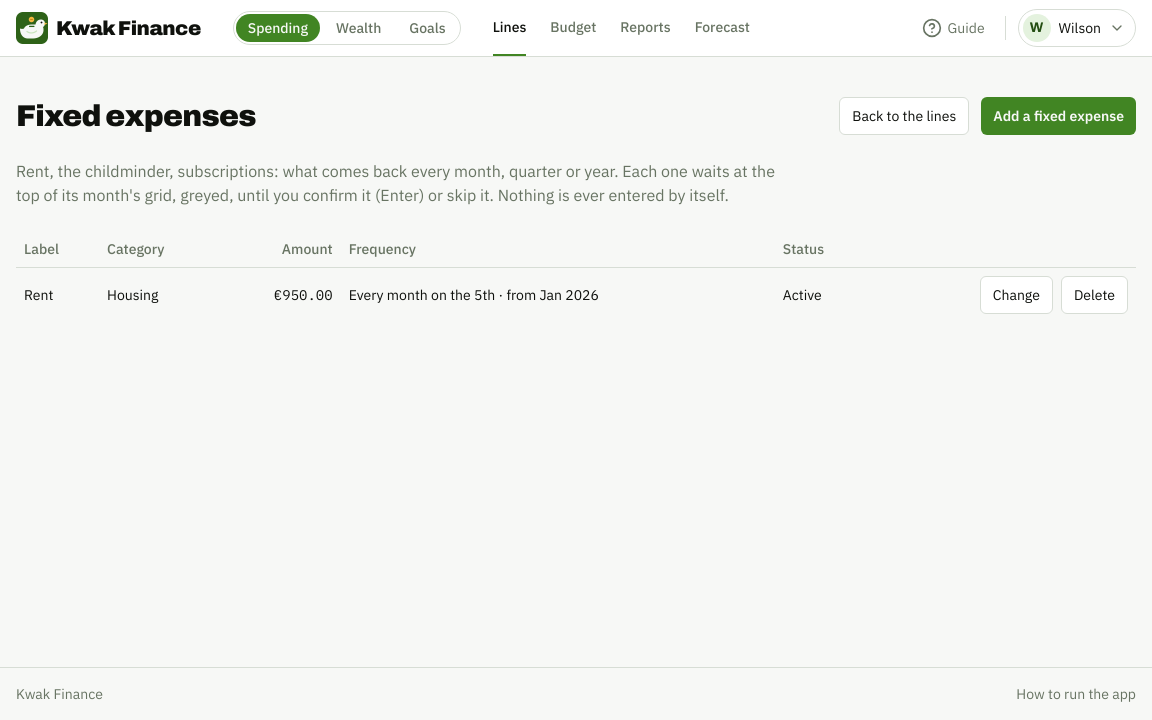
Test: a fixed expense is added as an outflow
Click the button "Add a fixed expense": point(1059, 116) [981,97,1136,135]
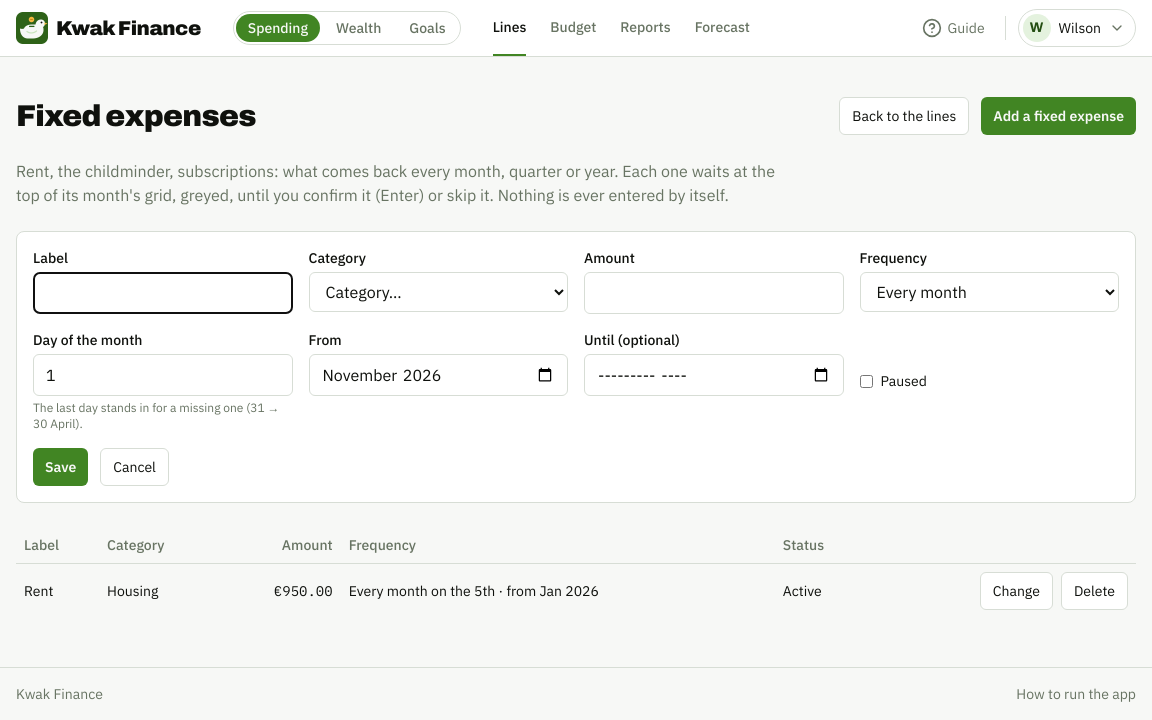
In the field labelled "Label": point(163, 293) [33,272,292,314], type "Streaming"
Select "Home" in the dropdown labelled "Category": point(438, 292) [308,272,568,312]
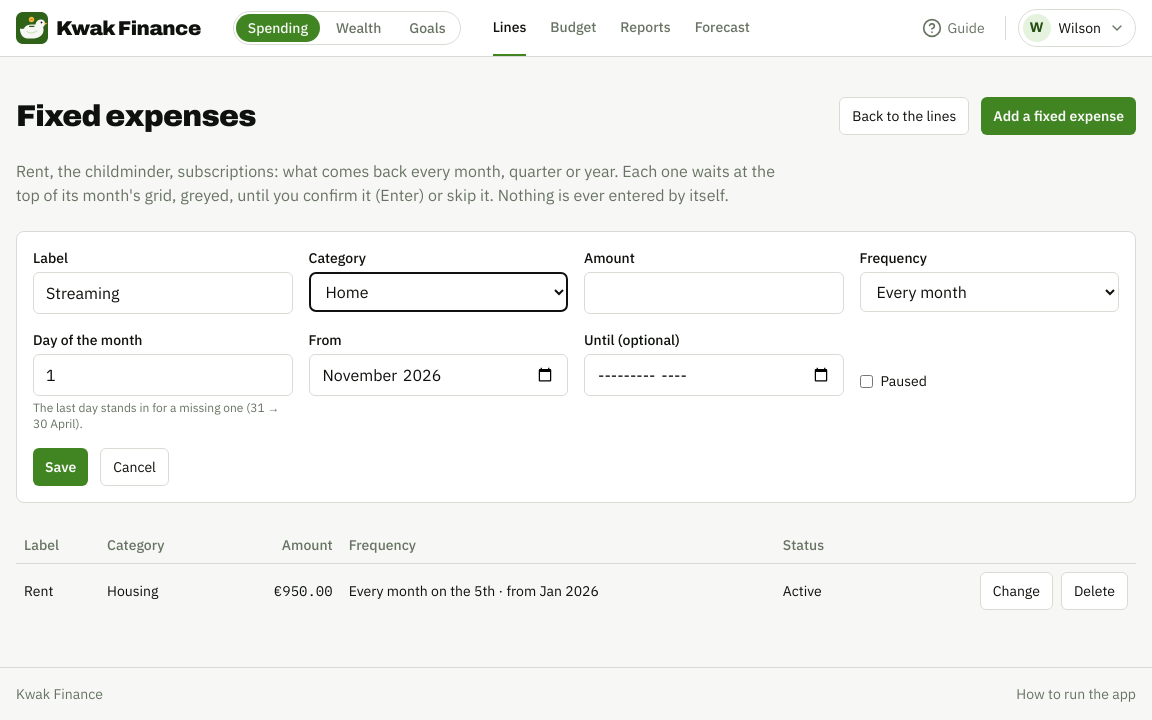
In the field labelled "Amount": point(714, 293) [584,272,844,314], type "13,49"
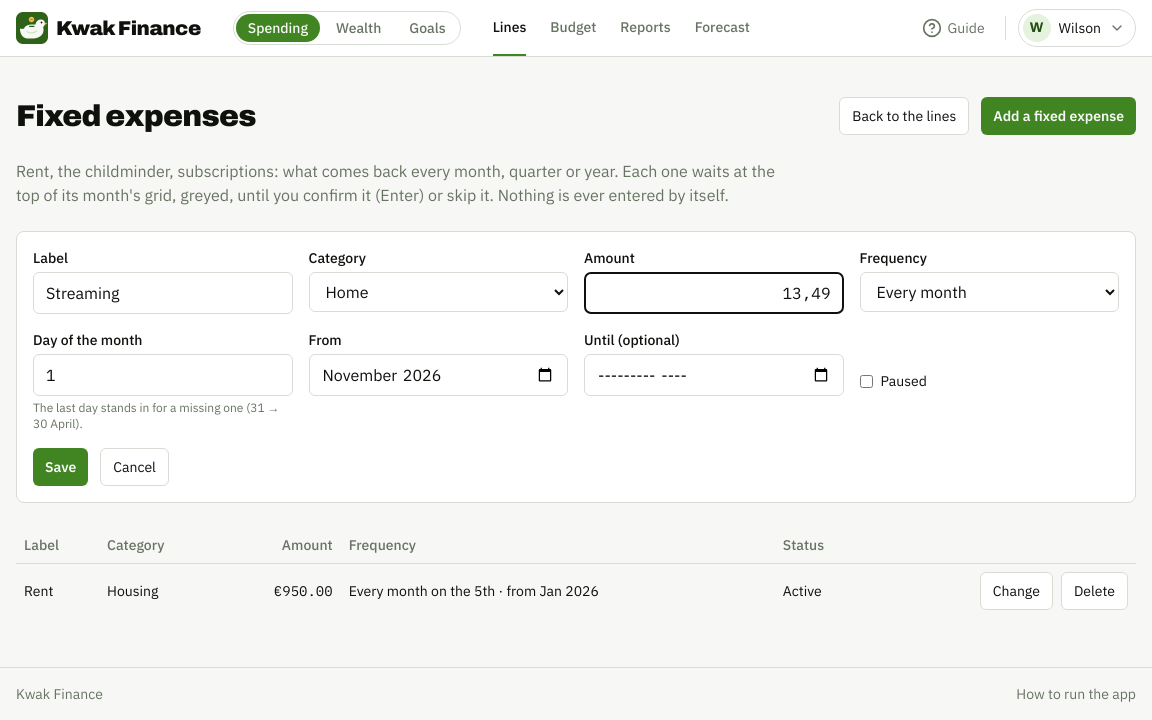
Select "Every year" in the dropdown labelled "Frequency": point(989, 292) [860,272,1119,312]
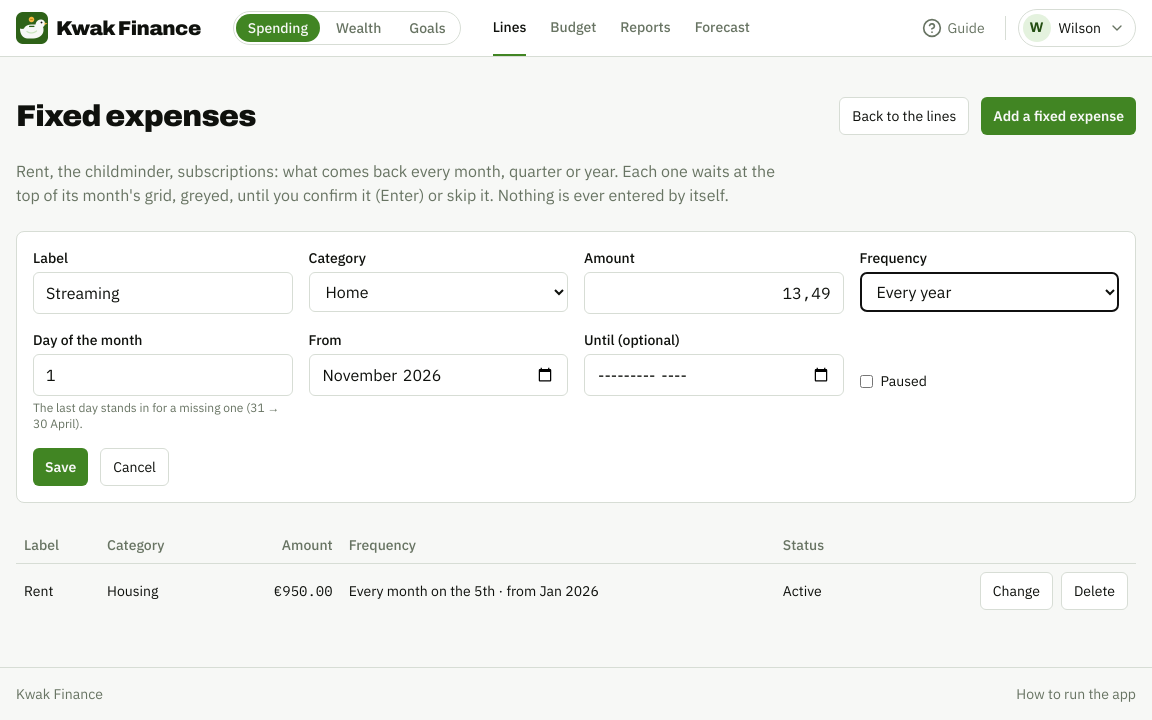
Replace the text in the number field labelled "Day of the month" with "31": point(163, 375) [33,354,292,396]
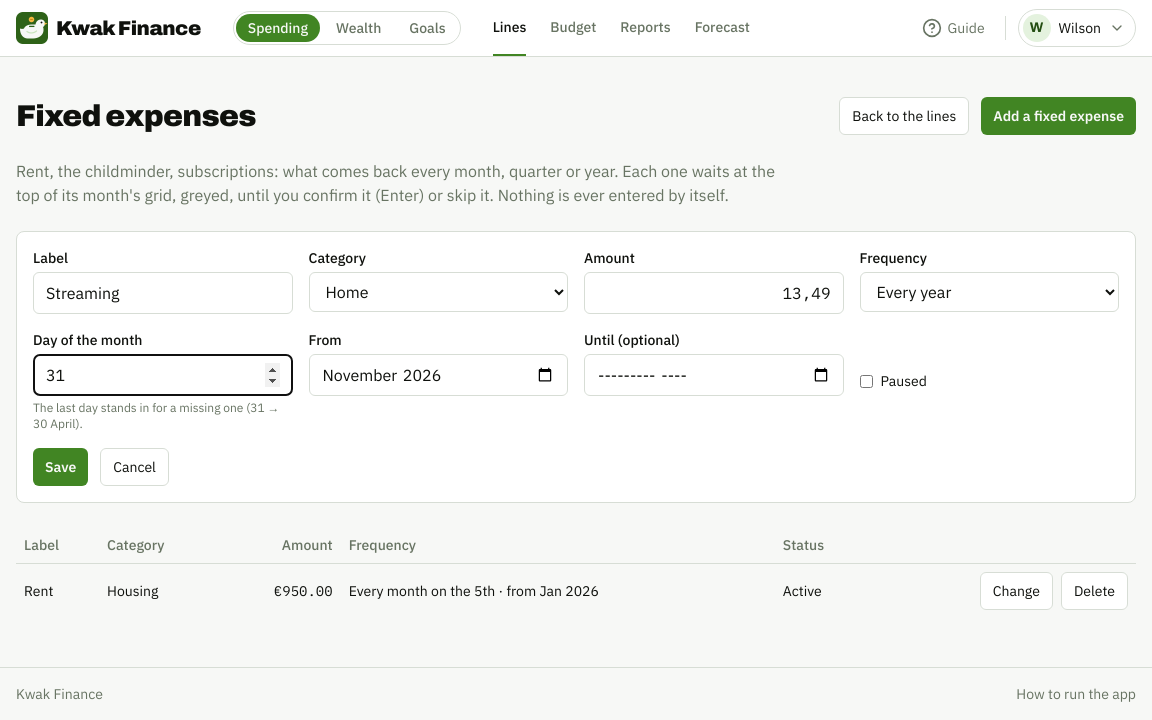
Click the button "Save": point(61, 467) [33,448,88,486]
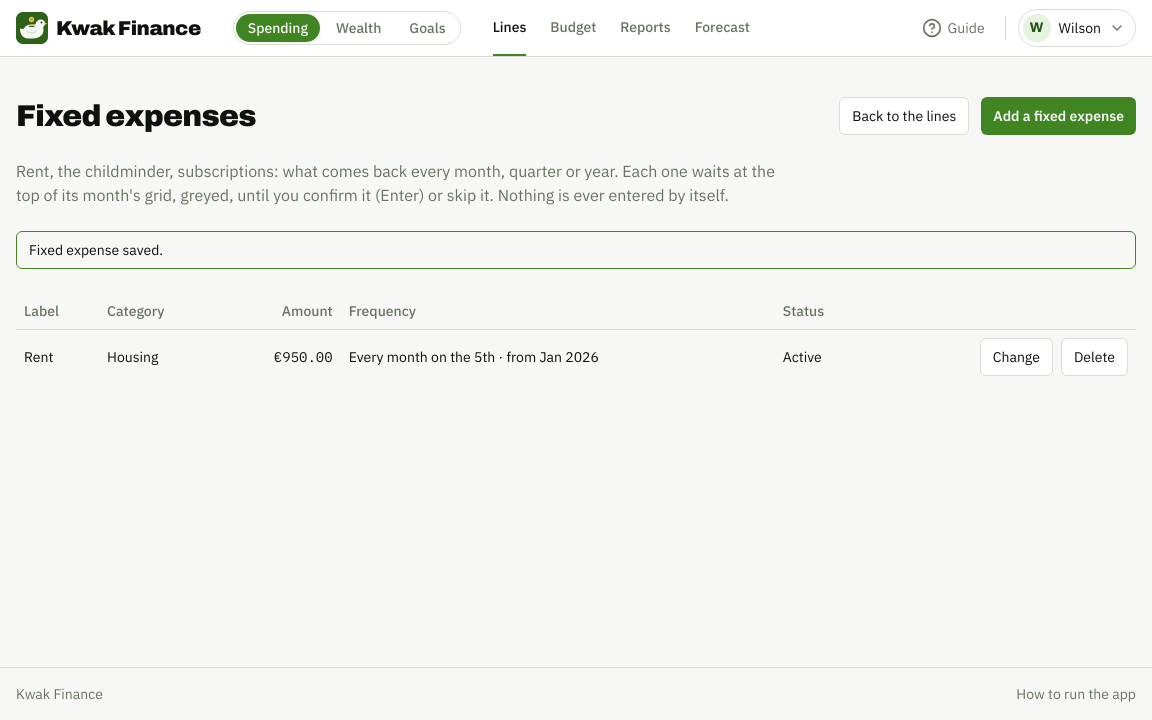
Expected: the text "Fixed expense saved." is shown, [16,231,1136,269]
